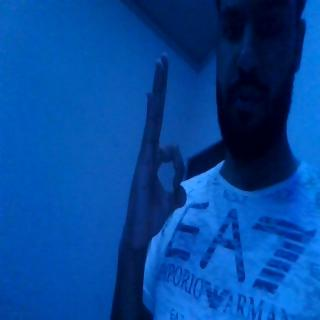Space: (116, 47, 188, 259)
